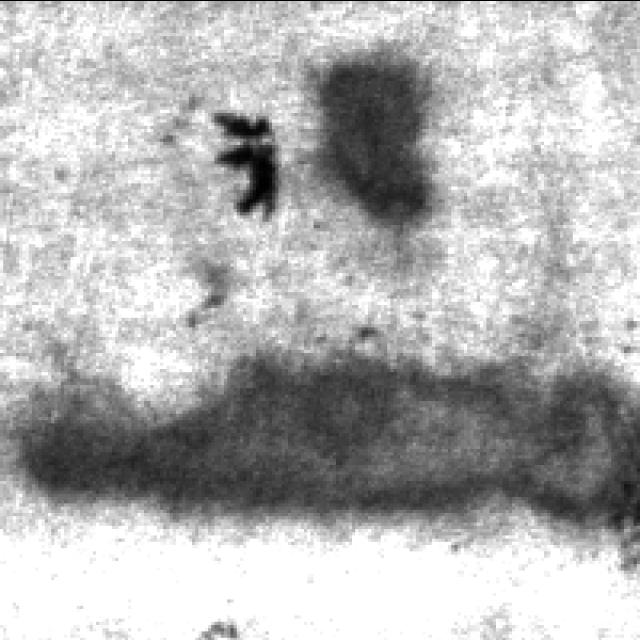patches: (3, 352, 640, 551), (306, 42, 437, 242), (207, 86, 282, 232)
